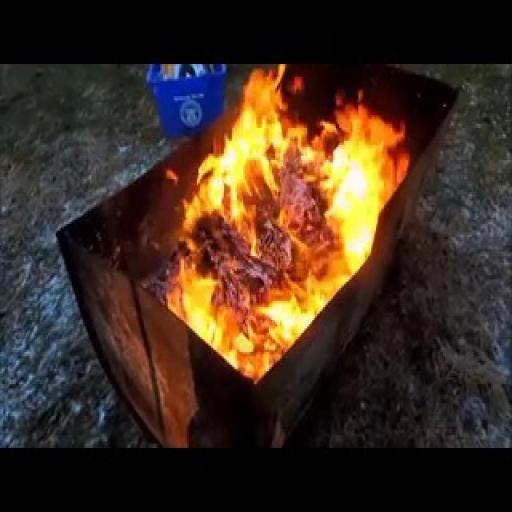smoke: (140, 66, 406, 388)
